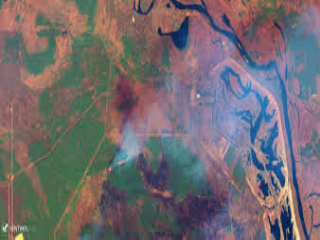smoke: (106, 125, 149, 179)
